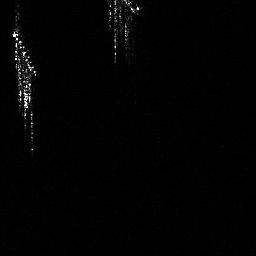ship: (7, 25, 42, 153)
